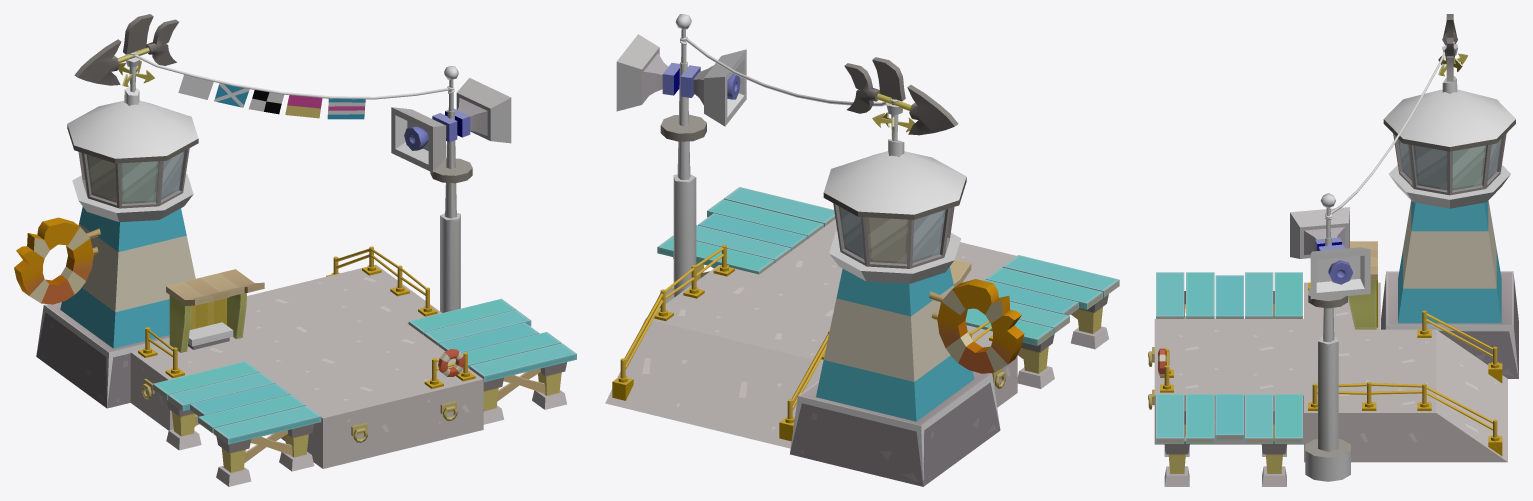
The model's file is lightHouse.glb.
The picture shows the model from 3 angles, left to right: view 1: azimuth 30°, elevation 25°; view 2: azimuth 150°, elevation 25°; view 3: azimuth 270°, elevation 25°; orthographic projection. The views are drawn at different scales.
Visible parts, largest first — view 1: lightHouse; view 2: lightHouse; view 3: lightHouse.
Part boxes in pixels (x1,y1,x2,y2): lightHouse: (14, 14, 576, 486); lightHouse: (605, 14, 1119, 486); lightHouse: (1148, 14, 1518, 486).
Size of the model in its own units: 6.12 by 4.81 by 4.77.
